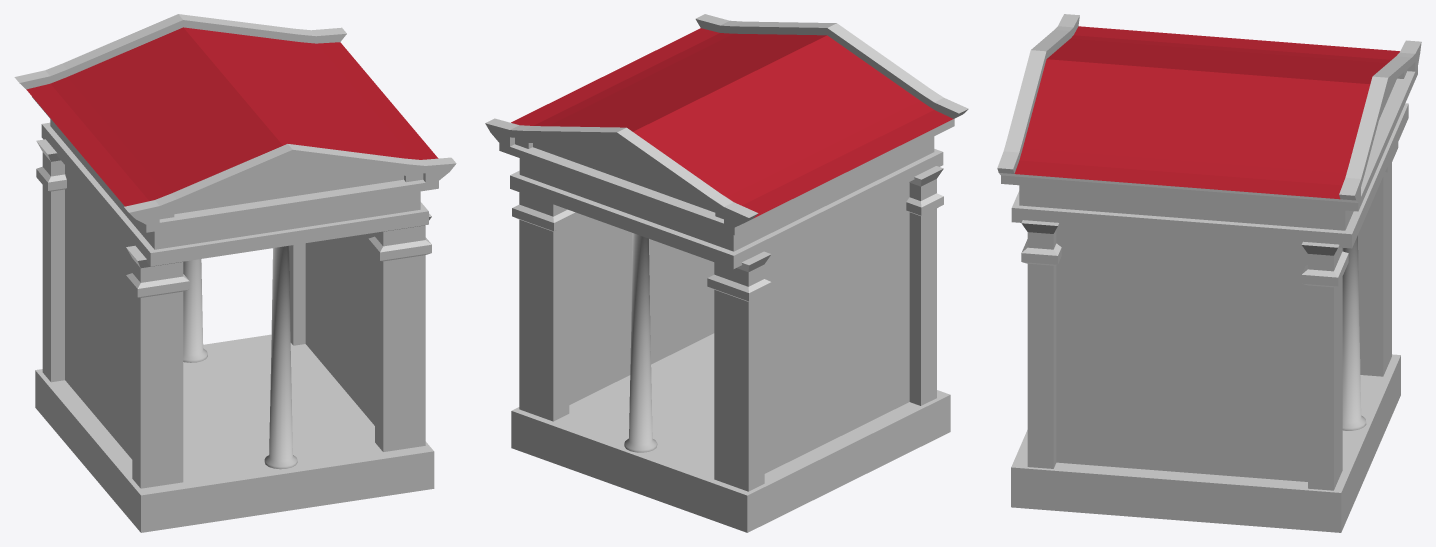
The picture shows the model from 3 angles, left to right: view 1: azimuth 30°, elevation 25°; view 2: azimuth 150°, elevation 25°; view 3: azimuth 270°, elevation 25°; orthographic projection. The views are drawn at different scales.
Visible parts, largest first — view 1: Plane_018, Cube_002, Plane_017, Cube_024, Cube_025, Cube_023, Circle_002_Circle_023, Circle_002_Circle_022, Cube_022; view 2: Plane_018, Plane_017, Cube_002, Cube_023, Cube_022, Cube_024, Circle_002_Circle_022; view 3: Plane_018, Plane_017, Cube_002, Cube_022, Cube_025, Cube_023, Circle_002_Circle_022.
Boxes of the visible parts, x1,y1,x2,y2 form: Plane_018: [14, 14, 456, 266]; Cube_002: [35, 334, 434, 532]; Plane_017: [65, 165, 374, 459]; Cube_024: [126, 245, 189, 488]; Cube_025: [368, 213, 431, 451]; Cube_023: [36, 139, 66, 382]; Circle_002_Circle_023: [264, 245, 297, 469]; Circle_002_Circle_022: [183, 259, 207, 362]; Cube_022: [289, 243, 305, 345]; Plane_018: [485, 14, 968, 268]; Plane_017: [569, 182, 909, 473]; Cube_002: [511, 333, 950, 532]; Cube_023: [707, 251, 771, 491]; Cube_022: [512, 192, 576, 421]; Cube_024: [906, 166, 943, 405]; Circle_002_Circle_022: [624, 233, 657, 452]; Plane_018: [997, 14, 1421, 248]; Plane_017: [1056, 225, 1307, 481]; Cube_002: [1011, 354, 1400, 532]; Cube_022: [1301, 241, 1348, 490]; Cube_025: [1021, 220, 1061, 468]; Cube_023: [1358, 142, 1398, 376]; Circle_002_Circle_022: [1342, 235, 1366, 430].
Size of the model in its own units: 18.5 by 18.44 by 18.25.
